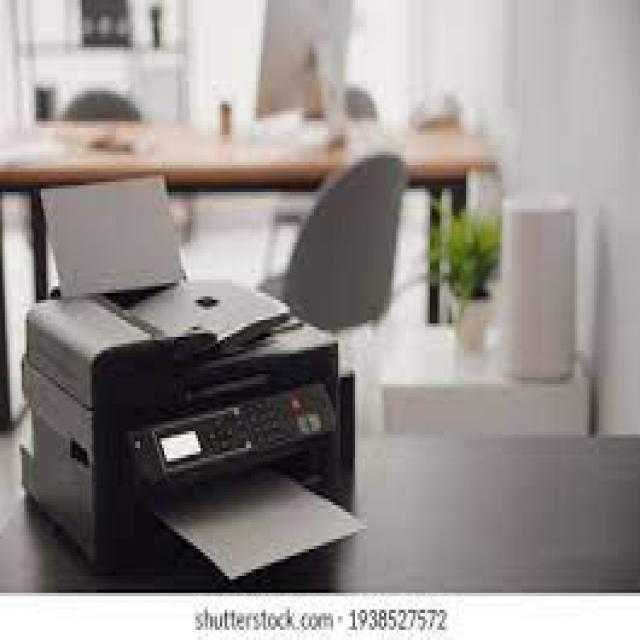printer: (22, 143, 404, 583)
